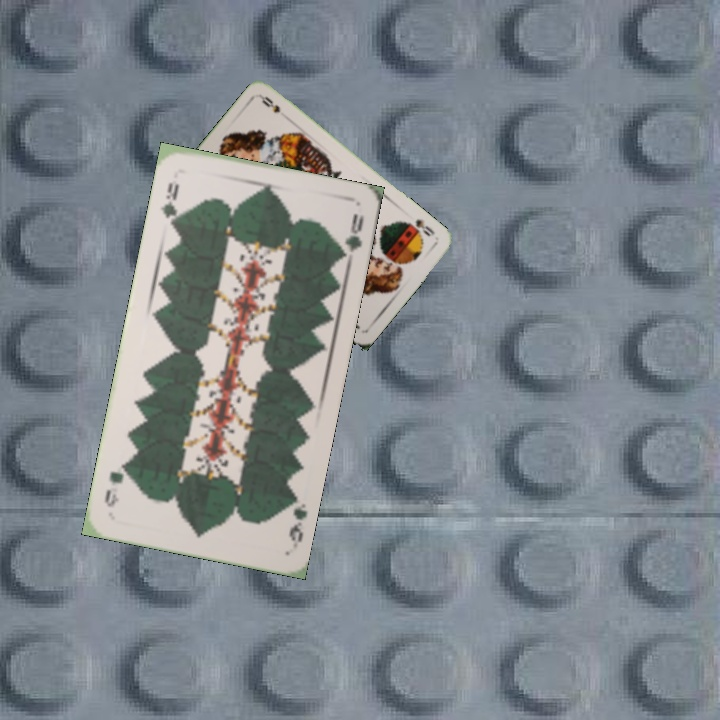G9: (283, 490, 310, 545), (156, 178, 181, 230)
SO: (411, 215, 437, 239)
